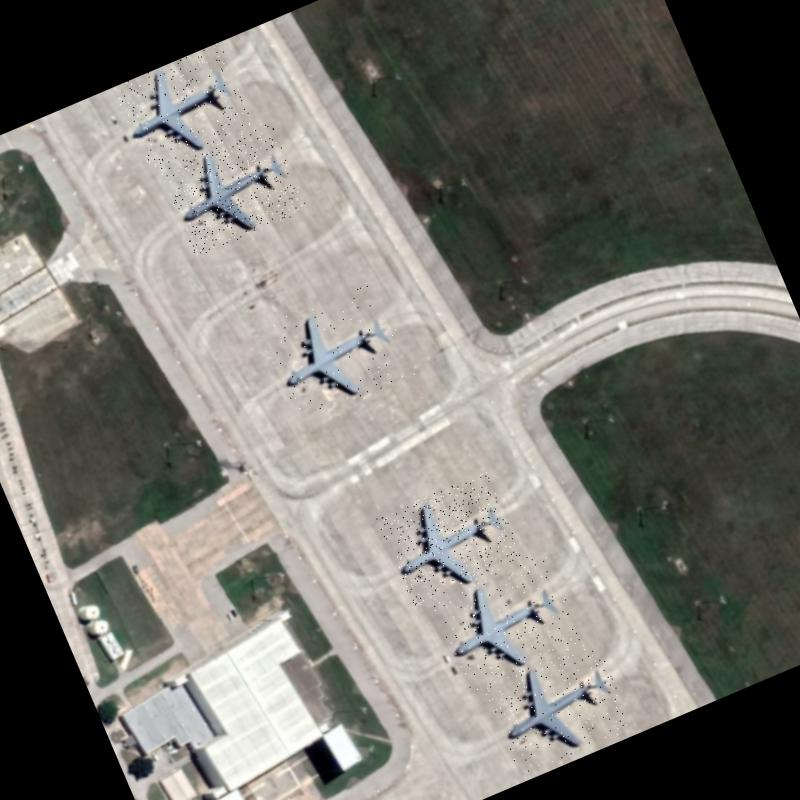A4: (429, 548, 585, 693), (259, 278, 415, 422), (481, 635, 636, 776), (158, 120, 308, 258), (376, 471, 525, 609), (113, 42, 255, 171)
